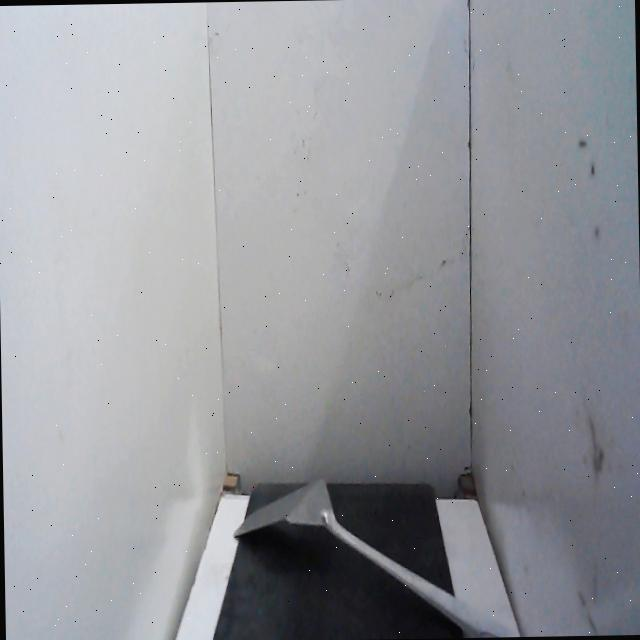metal: (227, 459, 526, 640)
